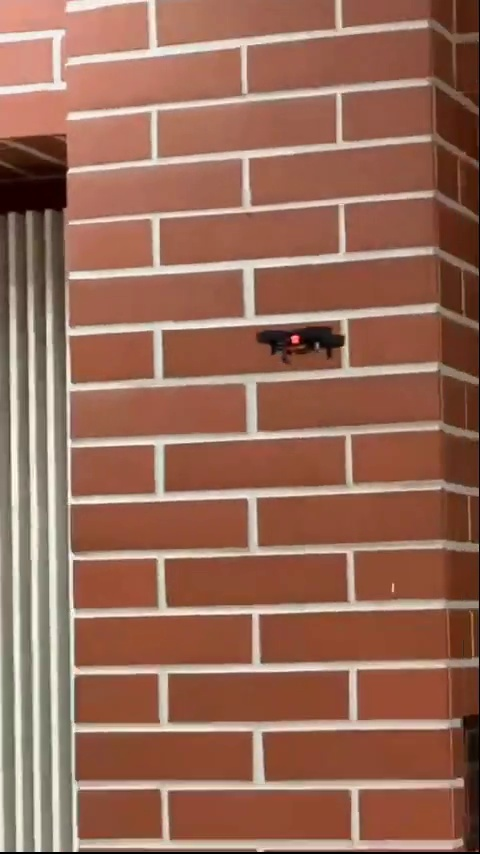drone: (253, 320, 344, 367)
